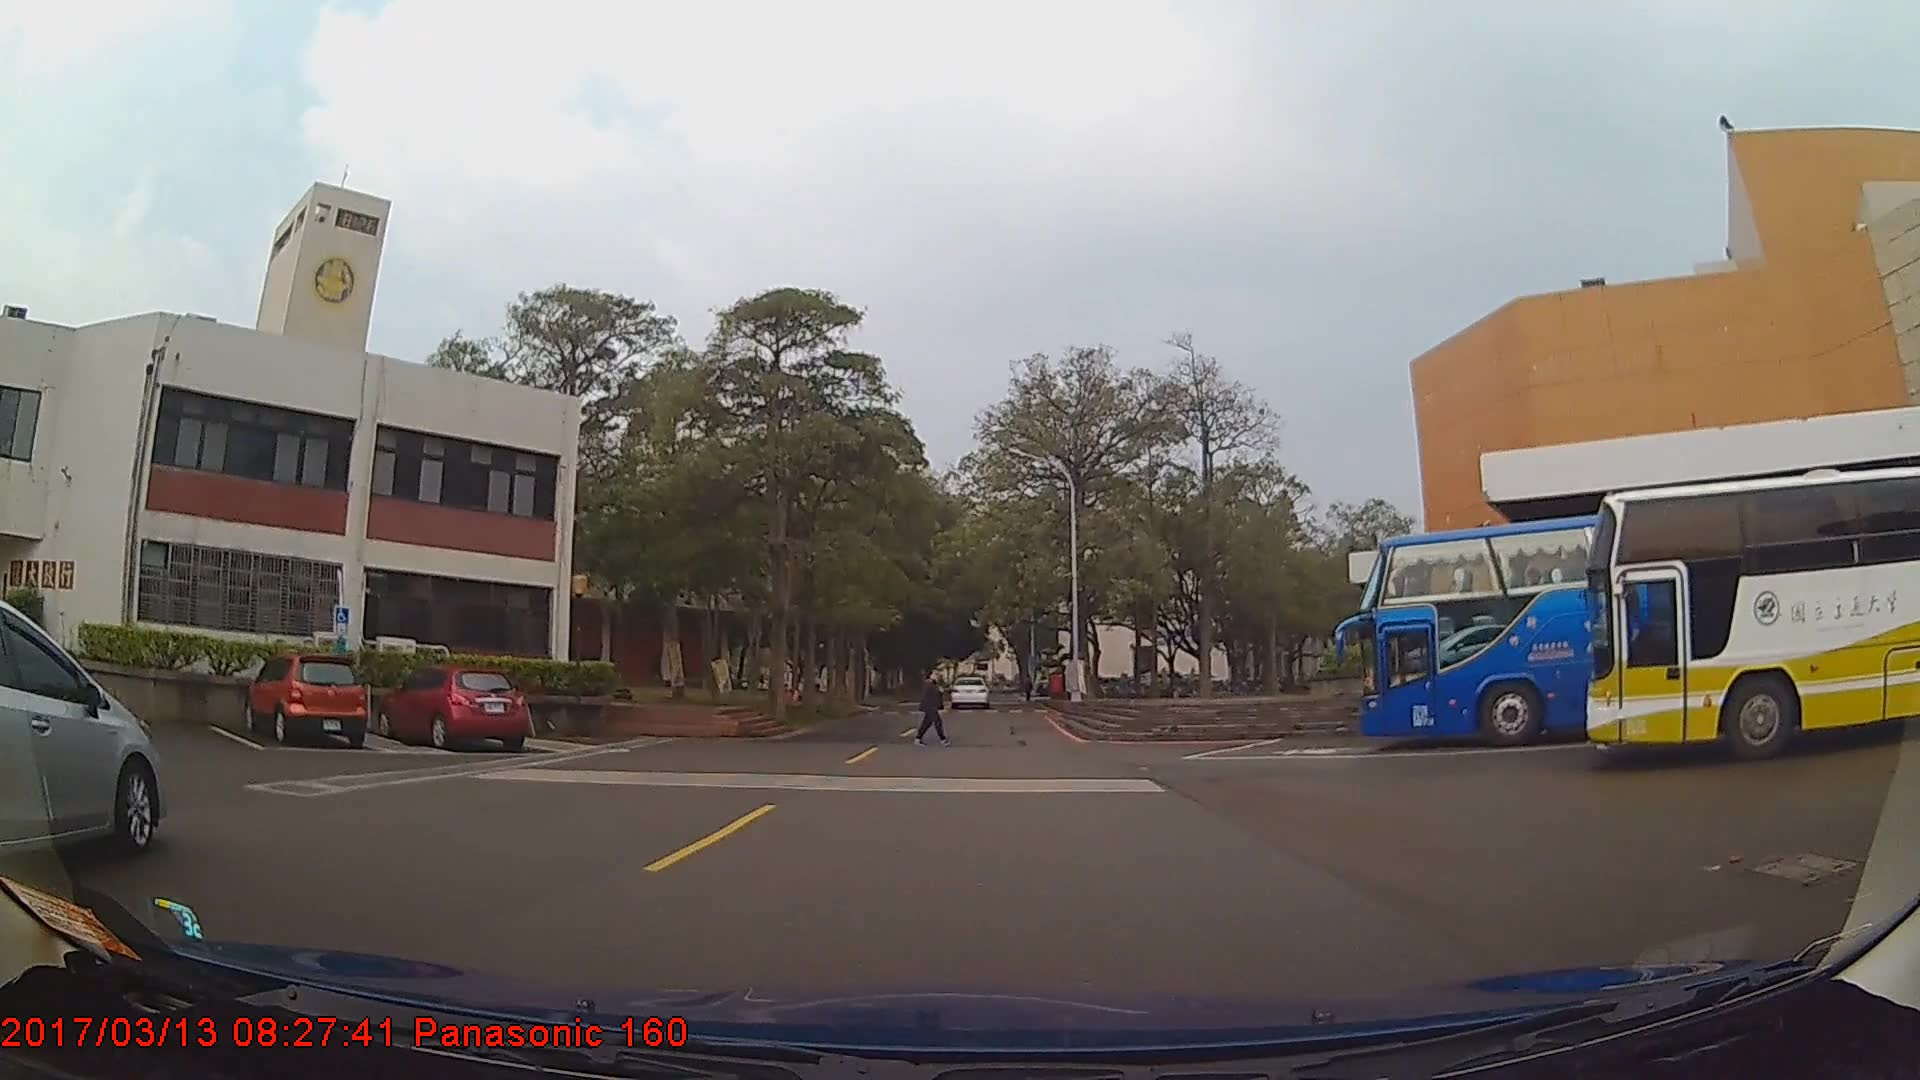pedestrian: (916, 667, 948, 748)
vehicle: (1362, 495, 1920, 752), (1588, 464, 1920, 766), (0, 596, 165, 869), (373, 667, 527, 751), (239, 654, 366, 751), (946, 675, 991, 713)
